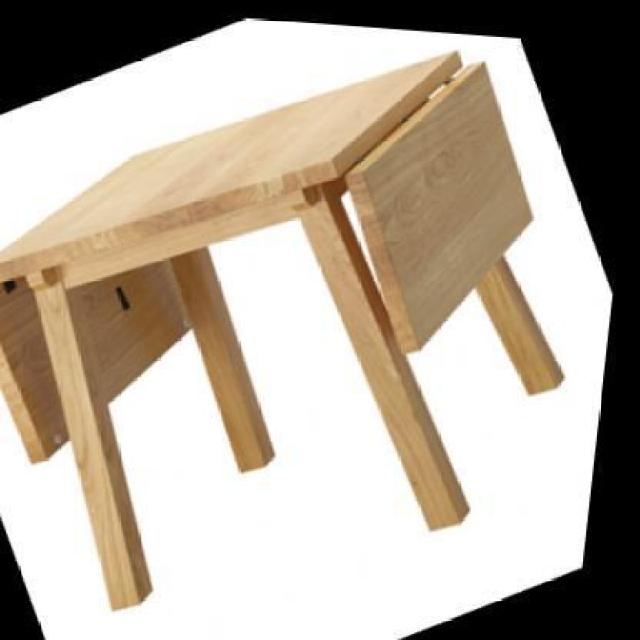tables: (0, 17, 569, 612)
